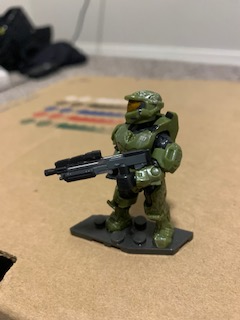chief: (107, 89, 183, 249)
rifle: (43, 151, 152, 184)
spartan: (105, 87, 181, 247)
